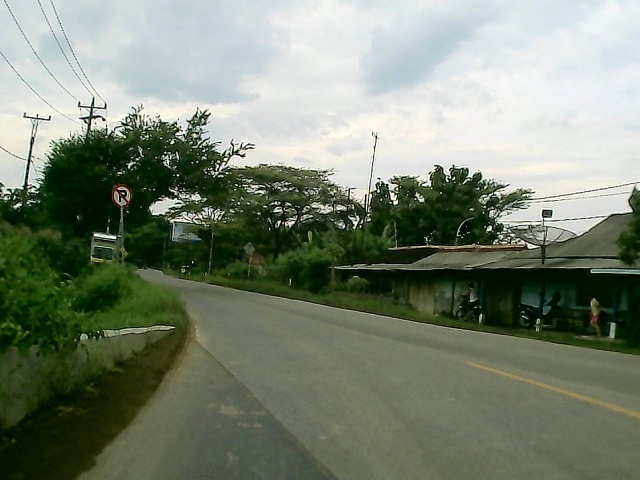Dilarang parkir: (110, 183, 133, 209)
